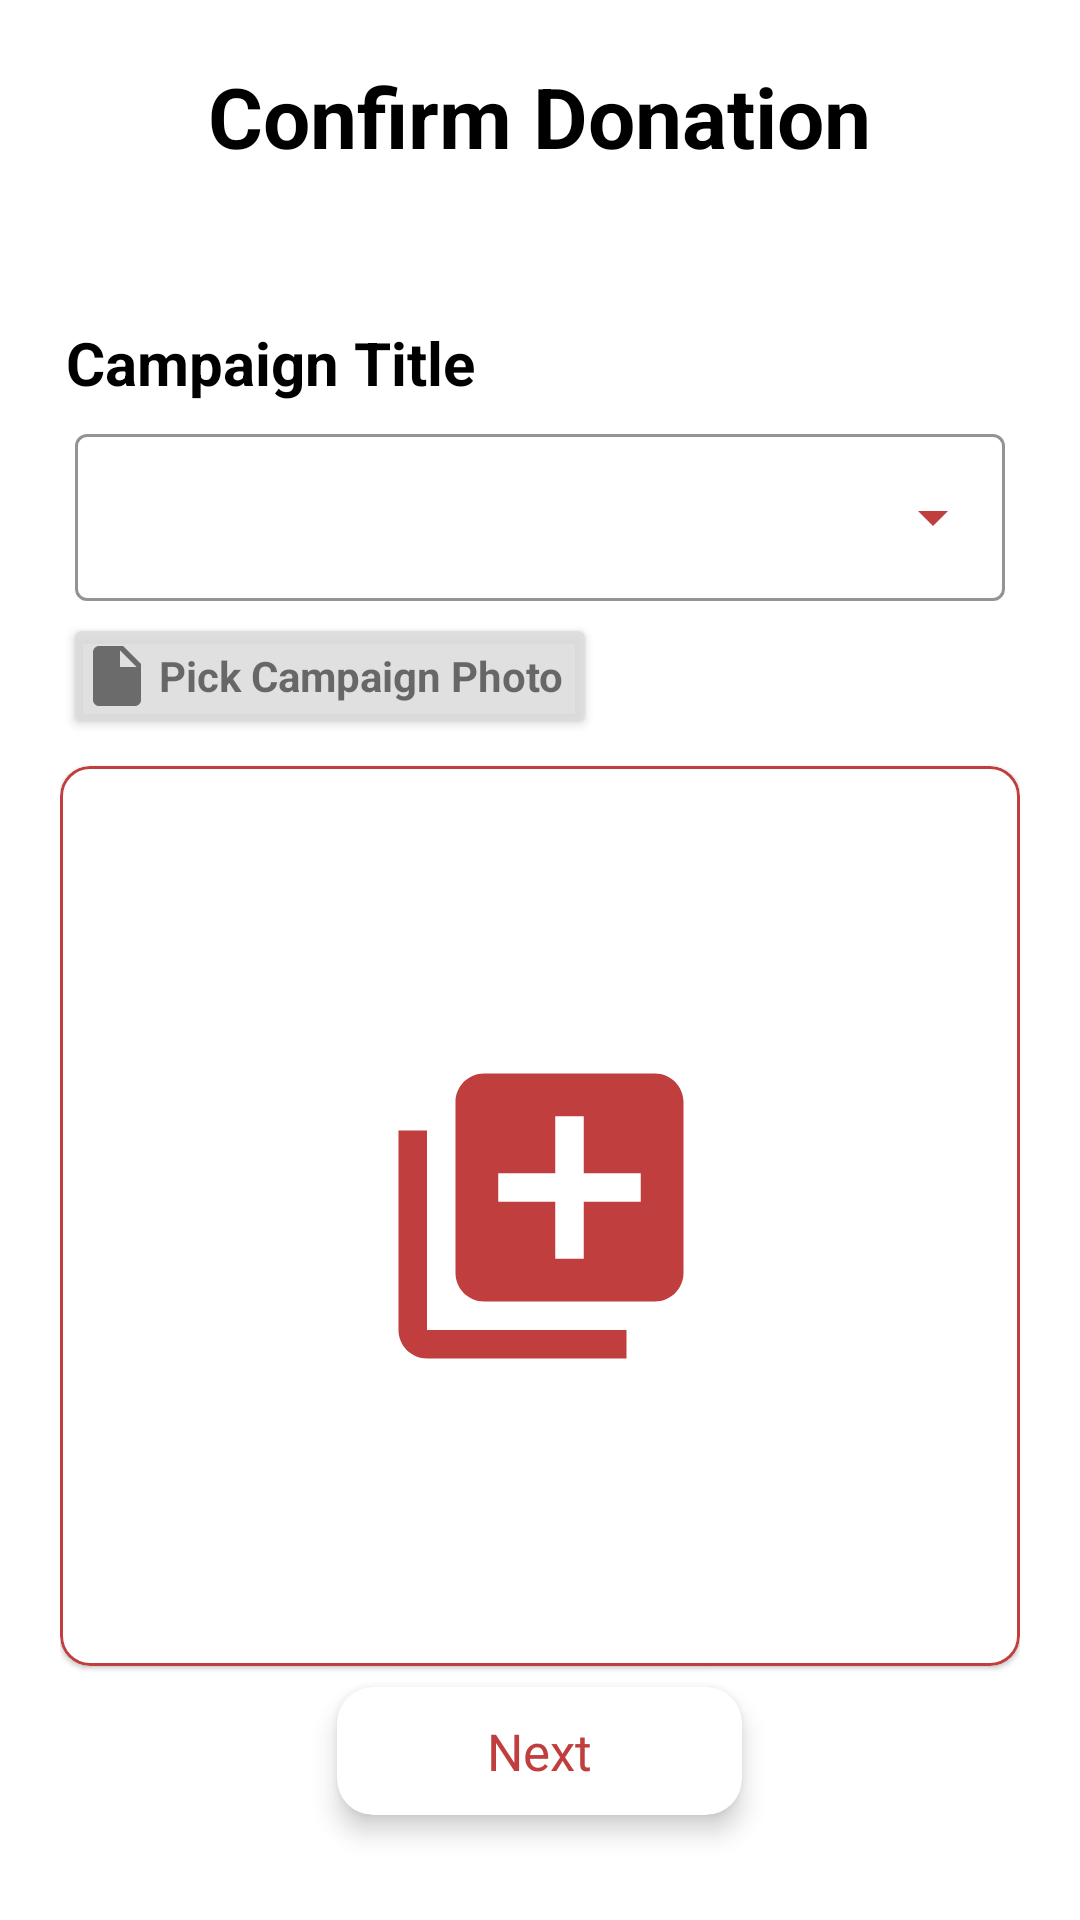

Locate icon controls on the screen. Image size 1080px x 1920px, boxes as BBox(x1, y1, x2, y2).
insertfile: BBox(93, 646, 141, 706)
